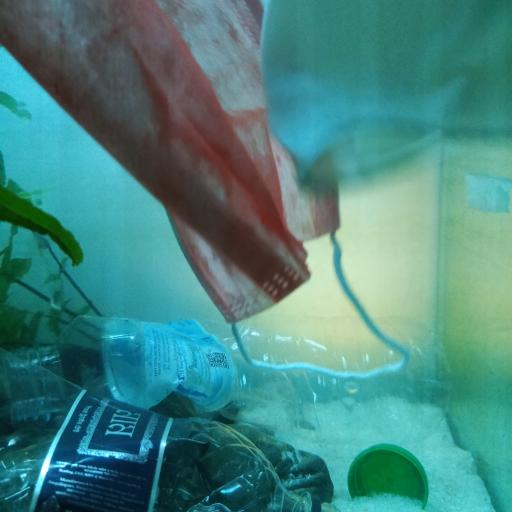bottle_cap: (346, 446, 432, 503)
glove: (264, 0, 512, 182)
mask: (2, 0, 408, 378)
plastic_bottle: (2, 310, 455, 448), (0, 348, 334, 511)
